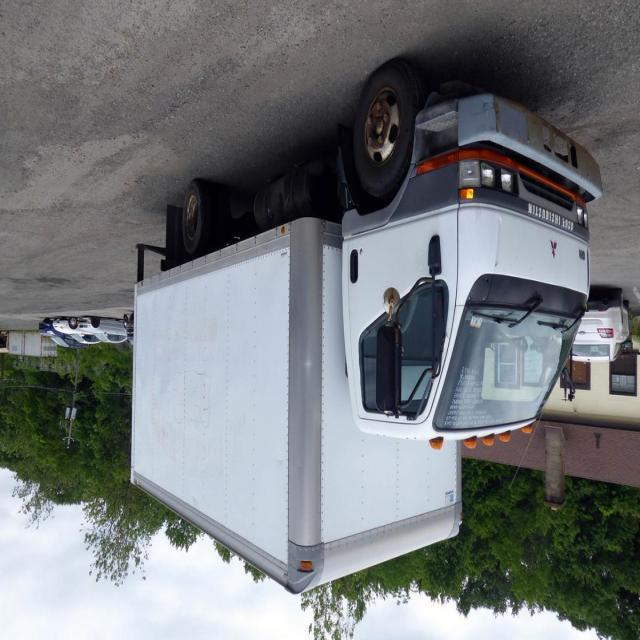truck: (122, 63, 602, 592)
